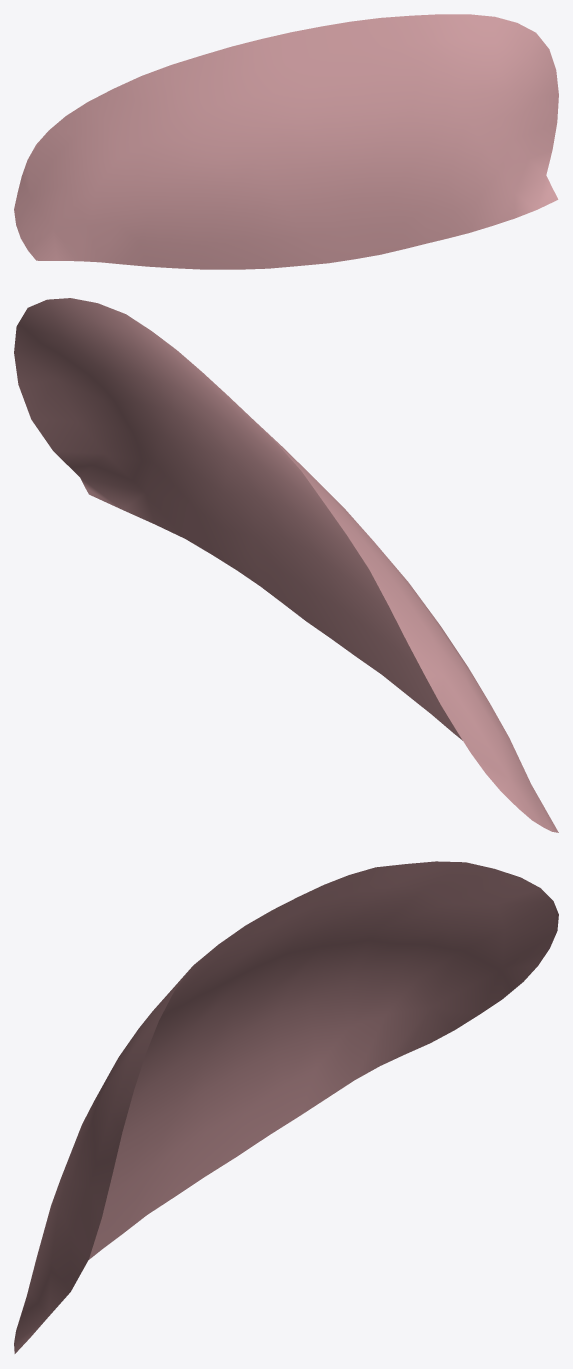
File: fma320584_mm904m.glb
3 renders of one model, top to bottom at view 1: azimuth 30°, elevation 25°; view 2: azimuth 150°, elevation 25°; view 3: azimuth 270°, elevation 25°, orthographic. The views are drawn at different scales.
Parts seen in each view (by area): view 1: FMA320584_MM904M; view 2: FMA320584_MM904M; view 3: FMA320584_MM904M.
Part boxes in pixels (bbox=[...]): FMA320584_MM904M: bbox=[14, 14, 558, 269]; FMA320584_MM904M: bbox=[14, 298, 558, 832]; FMA320584_MM904M: bbox=[14, 861, 558, 1353].
Size of the model in its own units: 0.00849 by 0.00386 by 0.00475.
